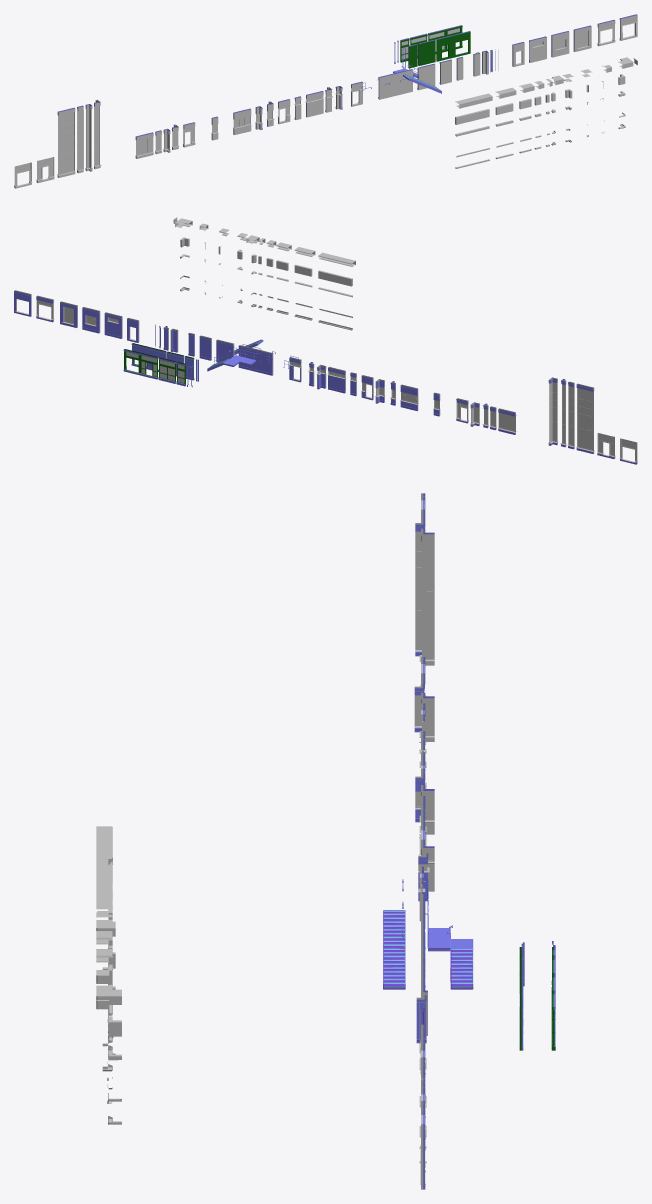
Rendered from WallSet01.FBX.
3 views of the same model, one above another, from view 1: azimuth 30°, elevation 25°; view 2: azimuth 150°, elevation 25°; view 3: azimuth 270°, elevation 25° (orthographic). The views are drawn at different scales.
Parts seen in each view (by area): view 1: Wall_0_6m, WallInt_0_3m, Wall_0_Window_1, Window_1_3m_end2end, Wall_0_Widndow_0, Wall_0_3m, Window_0_3m_end2end, WallInt_0_door_0, Wall_0_Window_2, Glass_3_mid_3m_end2end, Crown_1_6m001, Crown_2_6m001 (+6 smaller); view 2: Wall_0_6m, Wall_0_Window_1, Window_1_3m_end2end, Wall_0_Widndow_0, Window_0_3m_end2end; view 3: Stair_0_Long, Stair_0.
Boxes of the visible parts, left/top/right/bottom form: Wall_0_6m: left=378, top=69, right=412, bottom=99; WallInt_0_3m: left=418, top=39, right=435, bottom=65; Wall_0_Window_1: left=529, top=36, right=546, bottom=62; Window_1_3m_end2end: left=305, top=91, right=323, bottom=117; Wall_0_Widndow_0: left=551, top=31, right=569, bottom=57; Wall_0_3m: left=417, top=63, right=435, bottom=90; Window_0_3m_end2end: left=233, top=108, right=251, bottom=135; WallInt_0_door_0: left=436, top=35, right=453, bottom=61; Wall_0_Window_2: left=573, top=25, right=591, bottom=51; Glass_3_mid_3m_end2end: left=59, top=130, right=73, bottom=155; Crown_1_6m001: left=455, top=109, right=489, bottom=124; Crown_2_6m001: left=455, top=93, right=492, bottom=108; Wall_0_6m: left=238, top=345, right=273, bottom=375; Wall_0_Window_1: left=104, top=312, right=122, bottom=338; Window_1_3m_end2end: left=328, top=367, right=345, bottom=393; Wall_0_Widndow_0: left=82, top=307, right=100, bottom=333; Window_0_3m_end2end: left=400, top=384, right=418, bottom=411; Stair_0_Long: left=383, top=910, right=405, bottom=989; Stair_0: left=450, top=948, right=473, bottom=989.
Size of what is drawn, in the model's own units: 112 by 13.25 by 35.65.
